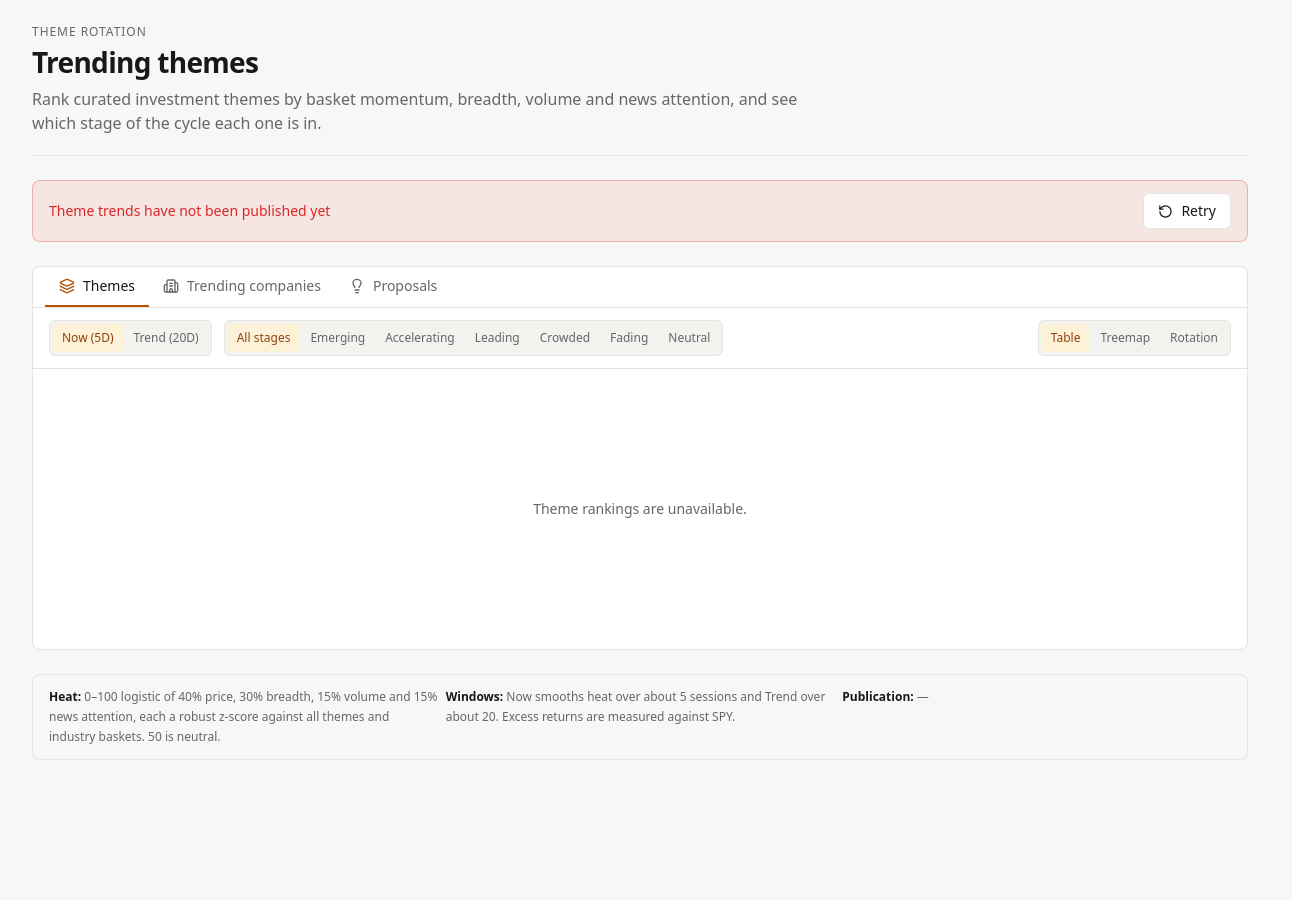
Test: ThemesPage › shows a server error and retries the same request
Expected: the message shows "Theme trends have not been published yet", [49,201,330,220]
Expected: the text "Theme rankings are unavailable." is shown, [533,499,747,518]
Click the button "Retry" at point(1187, 211), box [1143,193,1231,229]
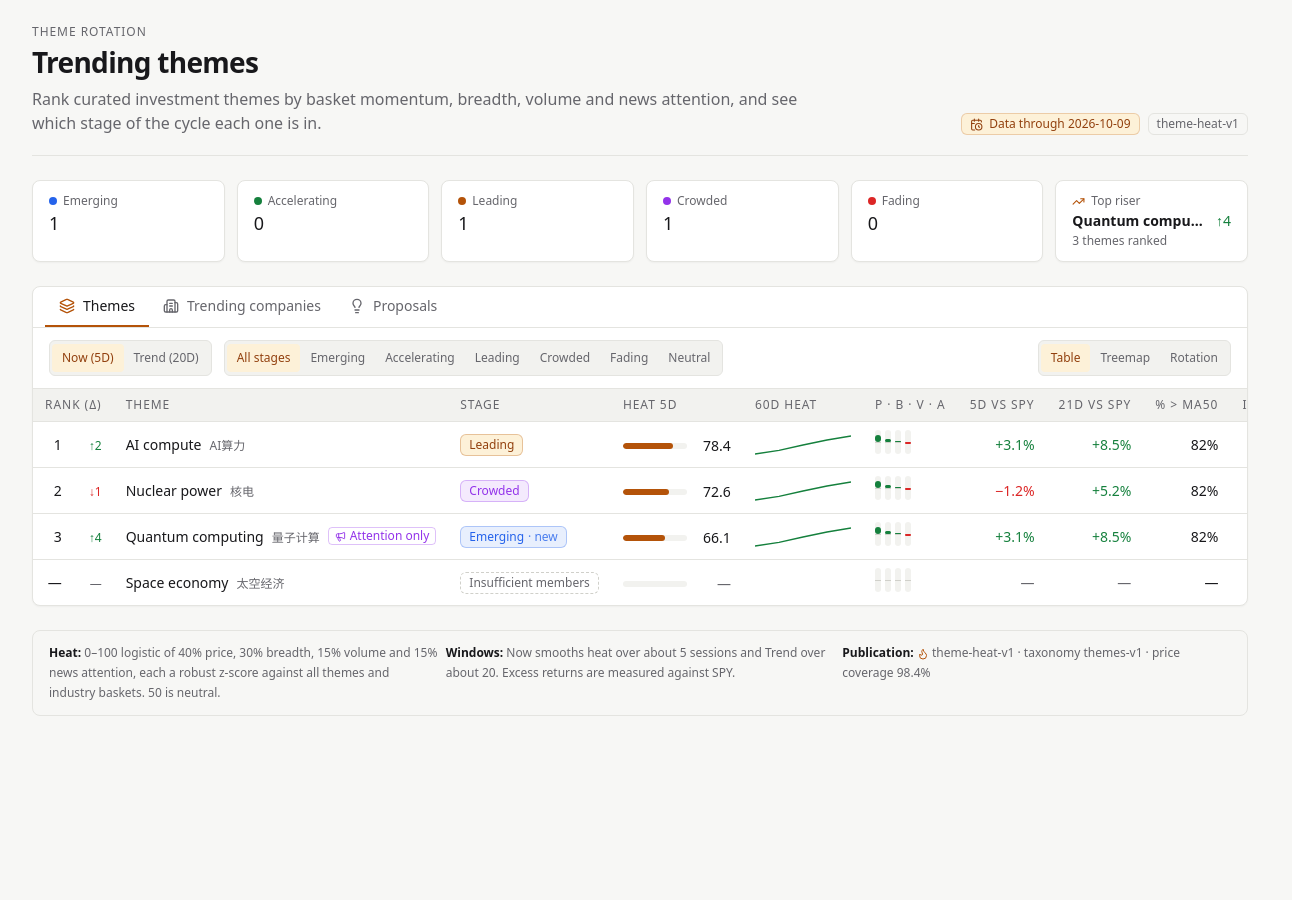
Now the row "AI compute" is shown, box [33,422,1247,468]
Now the message "Theme trends have not been published yet Retry" is gone
